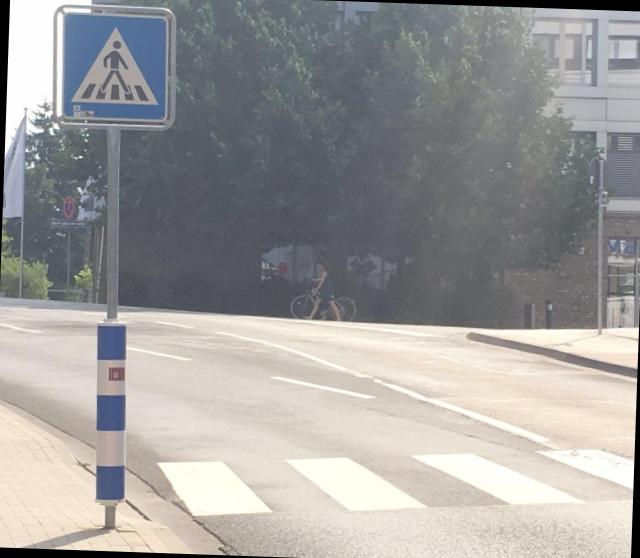crosswalk-sign: (51, 3, 180, 132)
